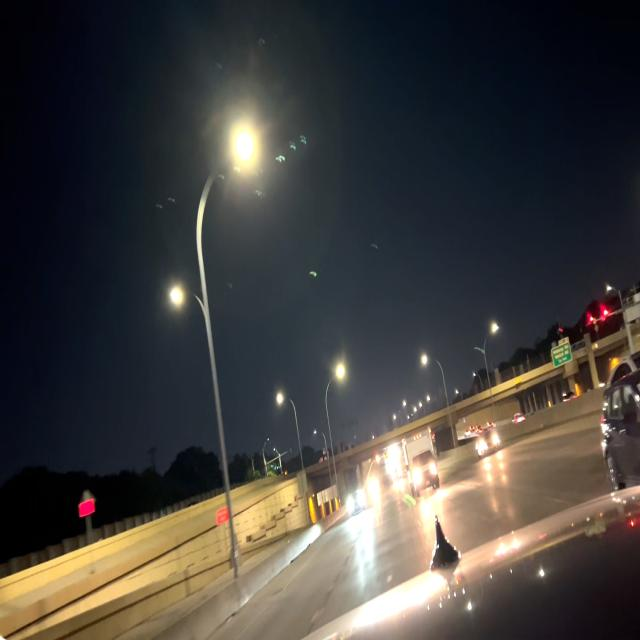back-of-sign: (295, 468, 310, 501), (316, 485, 338, 505)
